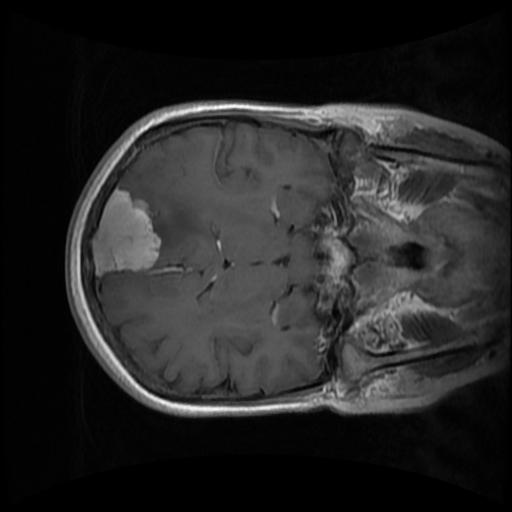meningioma: (92, 188, 163, 277)
